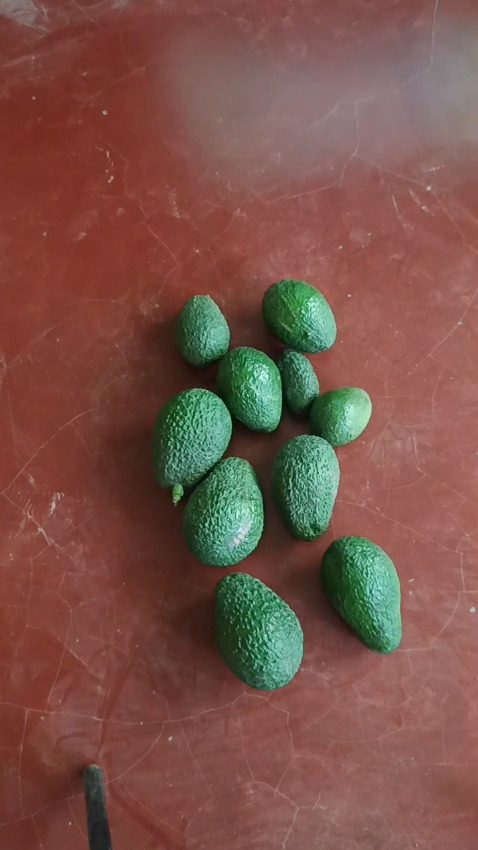Primera: (213, 572, 304, 687), (320, 535, 402, 650), (181, 457, 265, 565), (151, 388, 232, 493), (269, 434, 339, 539)
Segunda: (215, 346, 282, 432), (261, 279, 336, 353)
Tercera: (175, 294, 230, 366), (309, 386, 373, 447), (277, 348, 320, 416)
